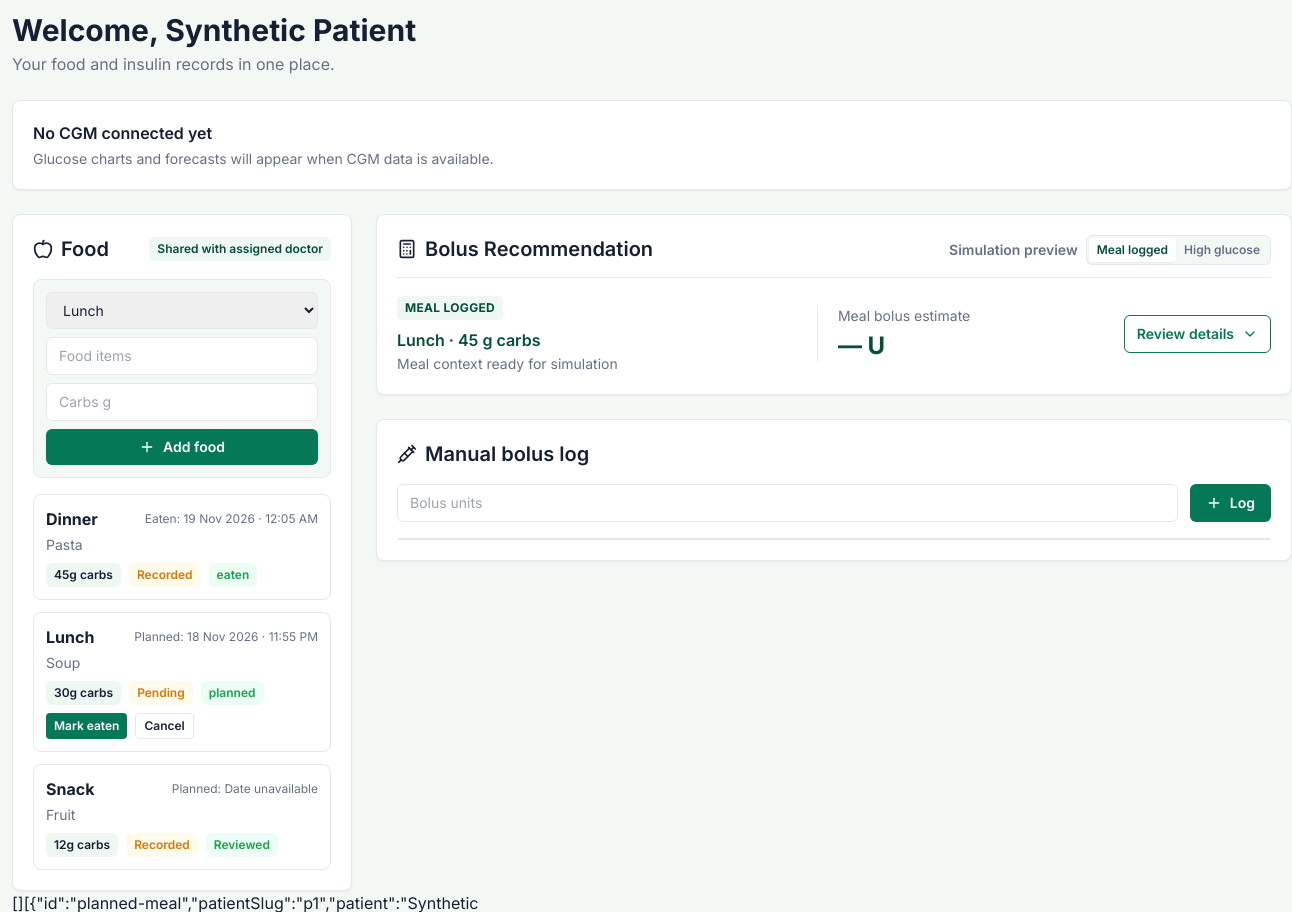
manual bolus logs units and submission time without invented meal or carbohydrate fields
Type "2.5" into the field labelled "Bolus units". click: point(787, 503)
box: [397, 484, 1178, 522]
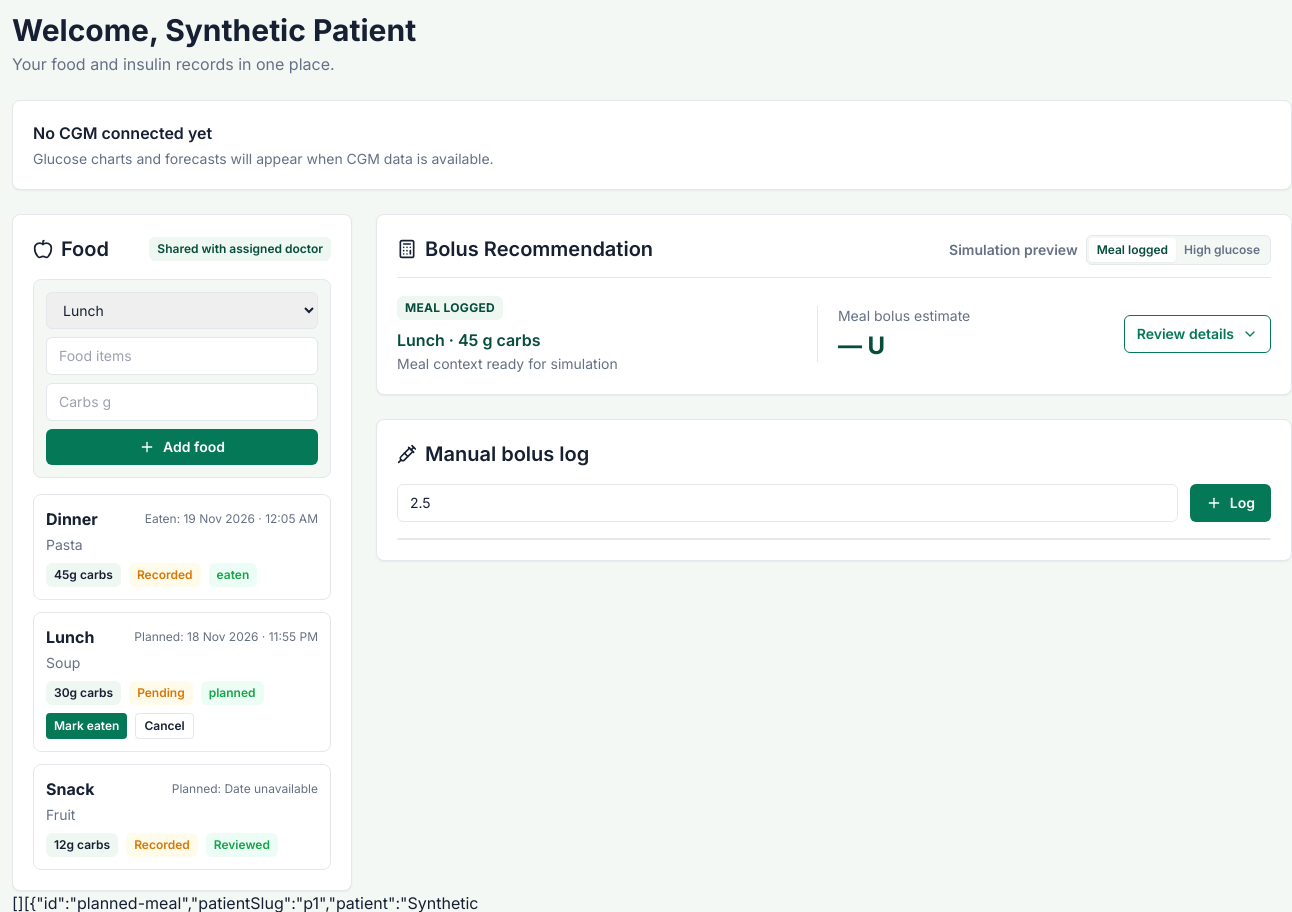
Click the button "Log". click: point(1230, 503)
box: [1190, 484, 1271, 522]
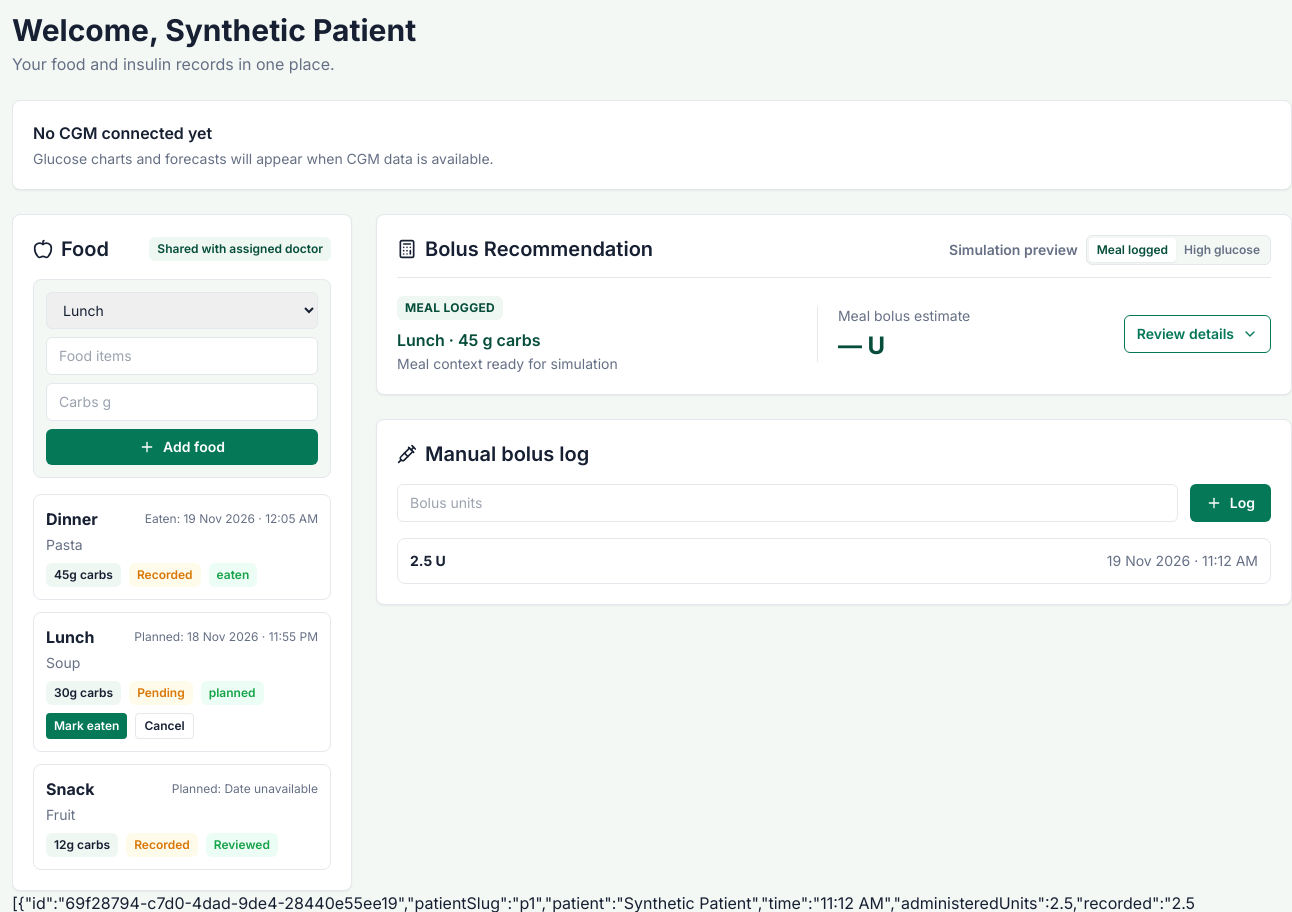
Expected: the text "2.5 U" is shown, [410, 551, 446, 571]
